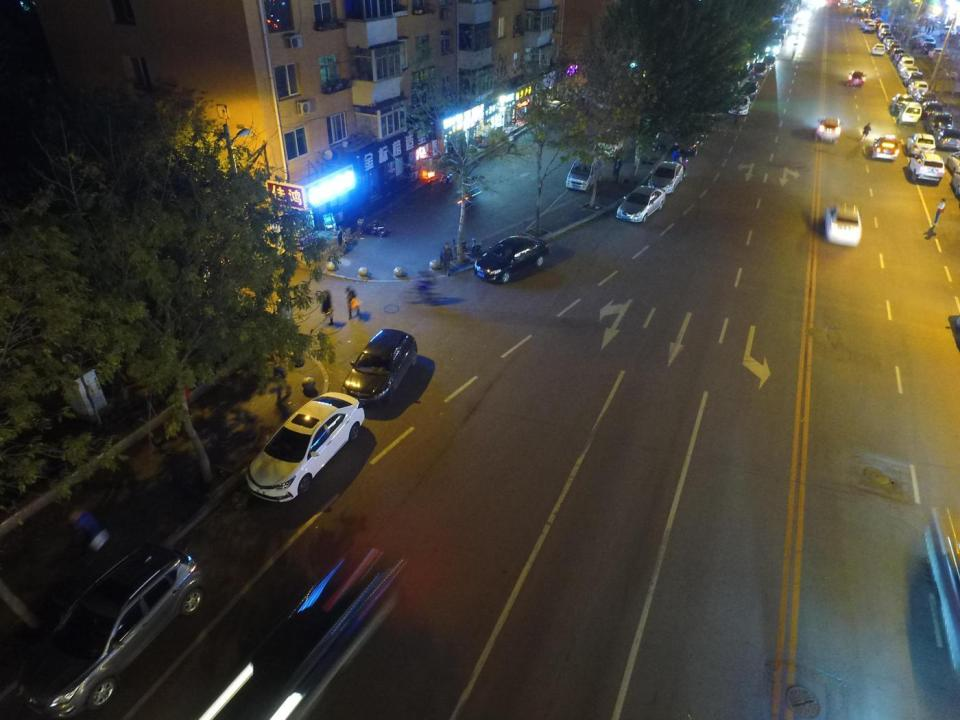car: (243, 391, 365, 505), (343, 330, 417, 412), (472, 235, 550, 285), (616, 185, 666, 223), (824, 204, 863, 246), (646, 161, 684, 194), (908, 152, 945, 184), (674, 129, 708, 156), (871, 134, 899, 162), (815, 118, 844, 140), (935, 126, 960, 150), (728, 93, 751, 117), (929, 111, 953, 134), (893, 93, 912, 115), (923, 100, 942, 121), (906, 80, 928, 98), (846, 69, 867, 87), (914, 90, 935, 108), (898, 56, 915, 72), (904, 72, 923, 86), (902, 65, 919, 80), (742, 82, 760, 96), (927, 48, 946, 59), (753, 62, 767, 76), (871, 43, 886, 56), (919, 36, 935, 47), (763, 54, 775, 68), (924, 41, 936, 52), (865, 23, 875, 32)
van: (17, 544, 201, 720), (566, 155, 603, 191), (908, 133, 935, 157), (899, 102, 922, 124), (878, 24, 890, 34)
